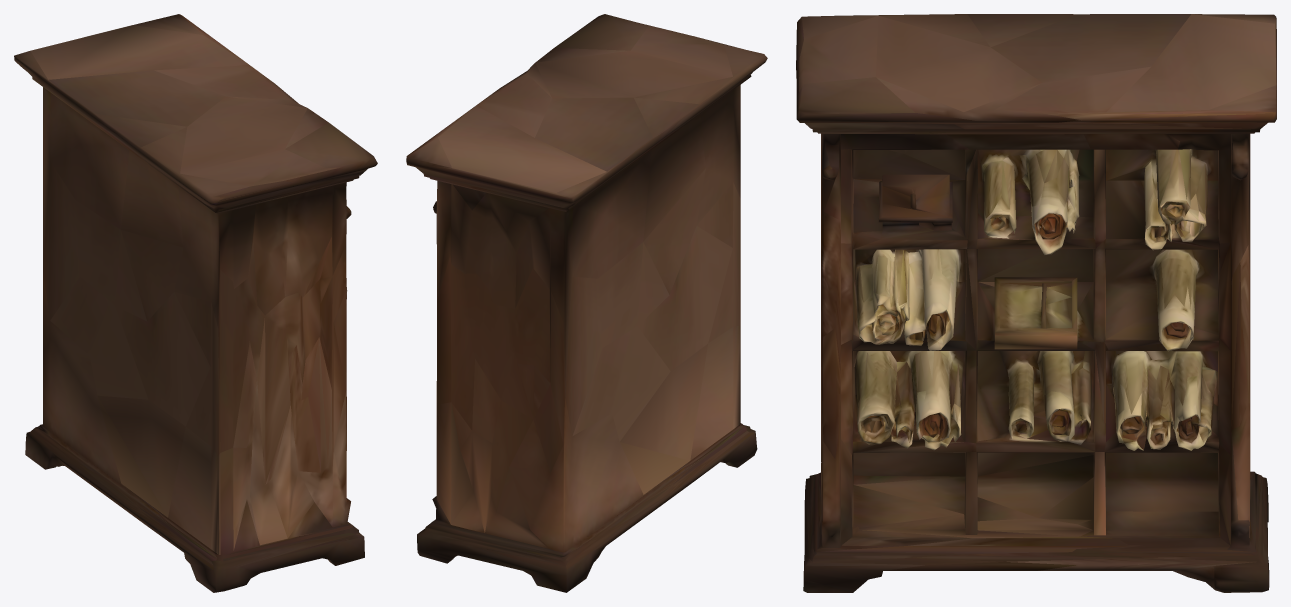
File: archive-cabinet.glb
3 views of the same model, side by side, from view 1: azimuth 30°, elevation 25°; view 2: azimuth 150°, elevation 25°; view 3: azimuth 270°, elevation 25° (orthographic). The views are drawn at different scales.
Parts seen in each view (by area): view 1: tripo_node_c14e3f77-4f2f-420c-9021-59c3862985e4; view 2: tripo_node_c14e3f77-4f2f-420c-9021-59c3862985e4; view 3: tripo_node_c14e3f77-4f2f-420c-9021-59c3862985e4.
Boxes of the visible parts, x1=… form: tripo_node_c14e3f77-4f2f-420c-9021-59c3862985e4: x1=14, y1=14, x2=377, y2=592; tripo_node_c14e3f77-4f2f-420c-9021-59c3862985e4: x1=406, y1=14, x2=767, y2=592; tripo_node_c14e3f77-4f2f-420c-9021-59c3862985e4: x1=796, y1=14, x2=1276, y2=592.
Size of the model in its own units: 0.9226 by 2.1 by 1.88.
1 material, 1 textured.
